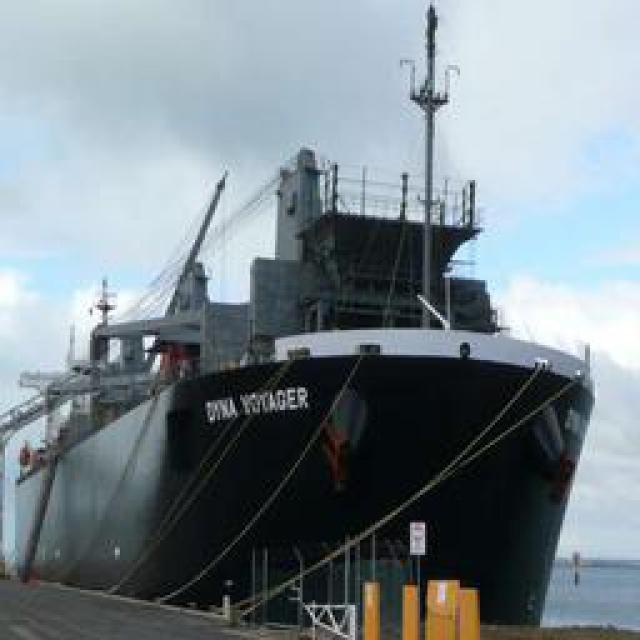Ship: (3, 265, 598, 620)
